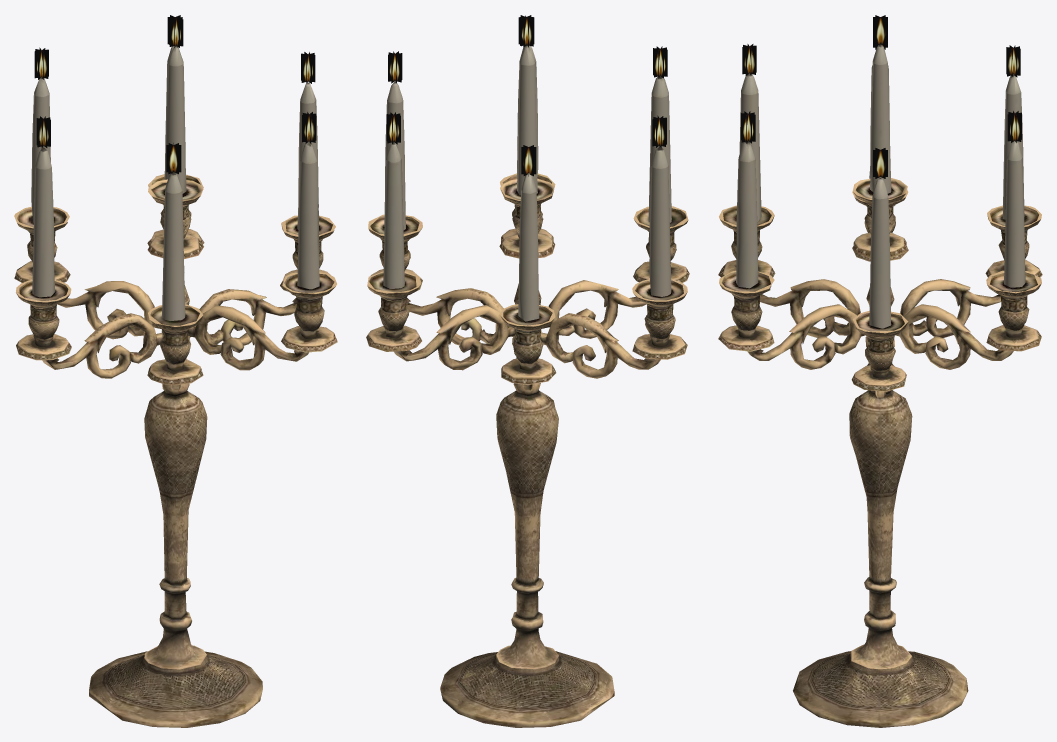
The model's file is candleholder.glb.
3 views of the same model, side by side, from view 1: azimuth 30°, elevation 25°; view 2: azimuth 150°, elevation 25°; view 3: azimuth 270°, elevation 25° (orthographic).
Parts seen in each view (by area): view 1: brass_candleholder_03; view 2: brass_candleholder_03; view 3: brass_candleholder_03.
Boxes of the visible parts, left/top/right/bottom form: brass_candleholder_03: left=14, top=15, right=337, bottom=727; brass_candleholder_03: left=366, top=15, right=689, bottom=727; brass_candleholder_03: left=718, top=15, right=1042, bottom=727.
Bounding box in the file's own units: 0.4077 × 0.8353 × 0.3646.
Materials: 2 (2 with a texture image).
